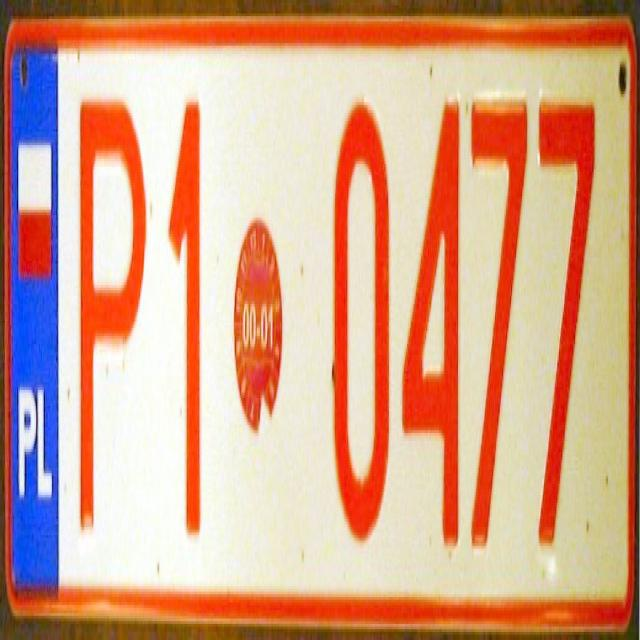pl_license_plate: (4, 22, 637, 638)
